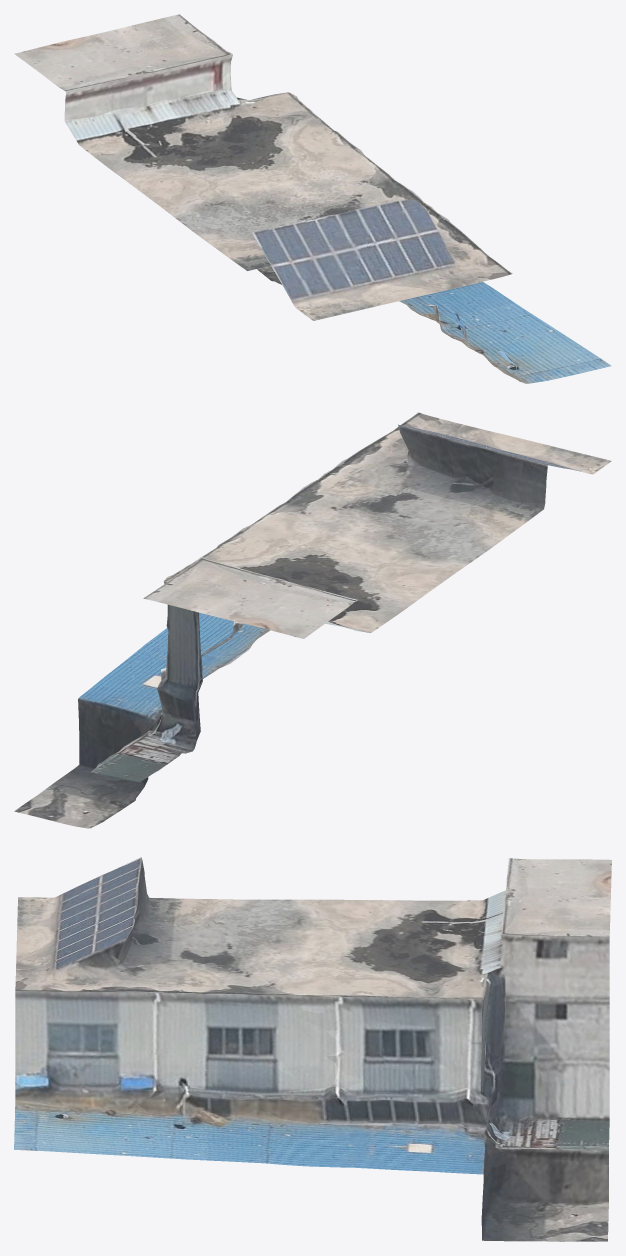
File: Tile_+008_+008_L21_0uuuu230.glb
3 renders of one model, top to bottom at view 1: azimuth 30°, elevation 25°; view 2: azimuth 150°, elevation 25°; view 3: azimuth 270°, elevation 25°, orthographic. The views are drawn at different scales.
Parts seen in each view (by area): view 1: rtc; view 2: rtc; view 3: rtc.
Part boxes in pixels (x1,y1,x2,y2): rtc: (14, 14, 611, 383); rtc: (14, 412, 611, 828); rtc: (14, 857, 611, 1241).
Size of the model in its own units: 15.03 by 11.92 by 26.48.
1 material, 1 textured.
